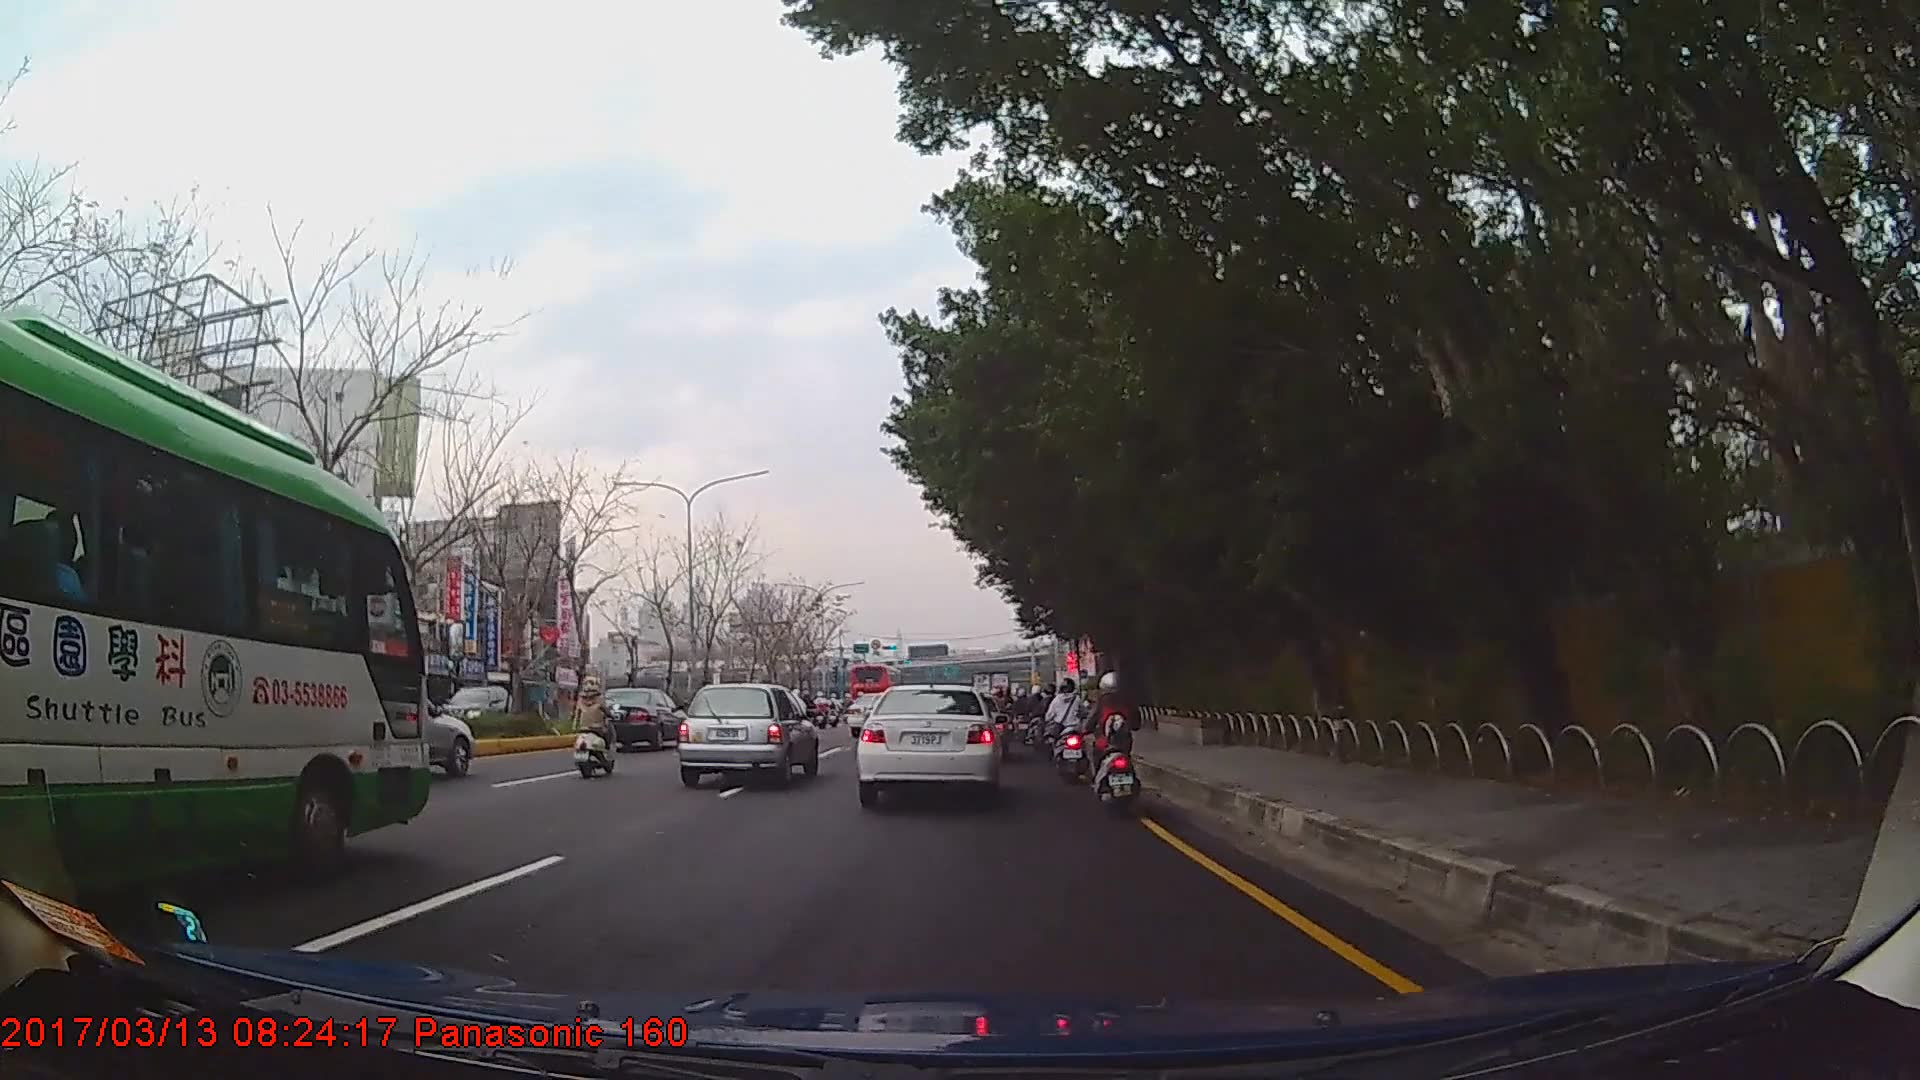rider: (1085, 669, 1148, 819), (1050, 678, 1092, 784), (576, 678, 618, 779), (1041, 681, 1063, 751)
vehicle: (0, 296, 433, 908), (854, 681, 1003, 803), (676, 681, 819, 788), (578, 685, 693, 752), (438, 682, 518, 735), (847, 658, 900, 709)
